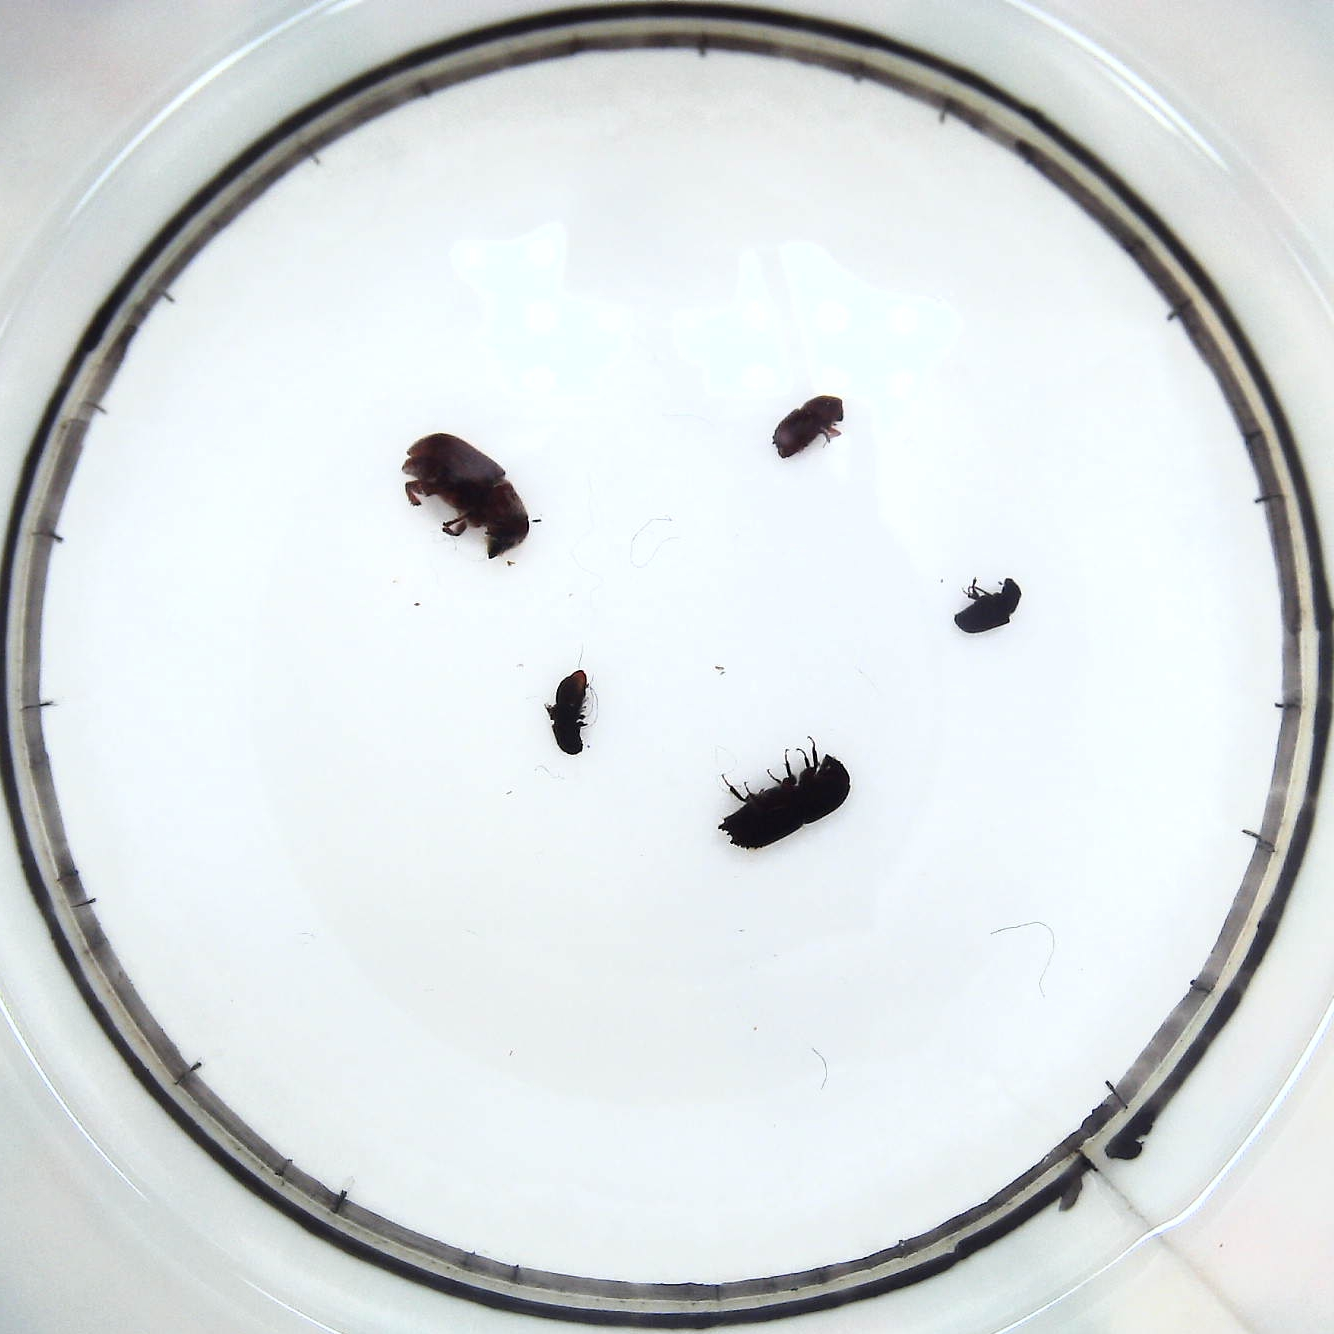Boerner: (711, 735, 858, 856)
Leconte: (397, 426, 536, 562)
armandi: (550, 673, 594, 761)
coleoptera: (955, 575, 1029, 644)
linnaeus: (767, 390, 855, 465)
